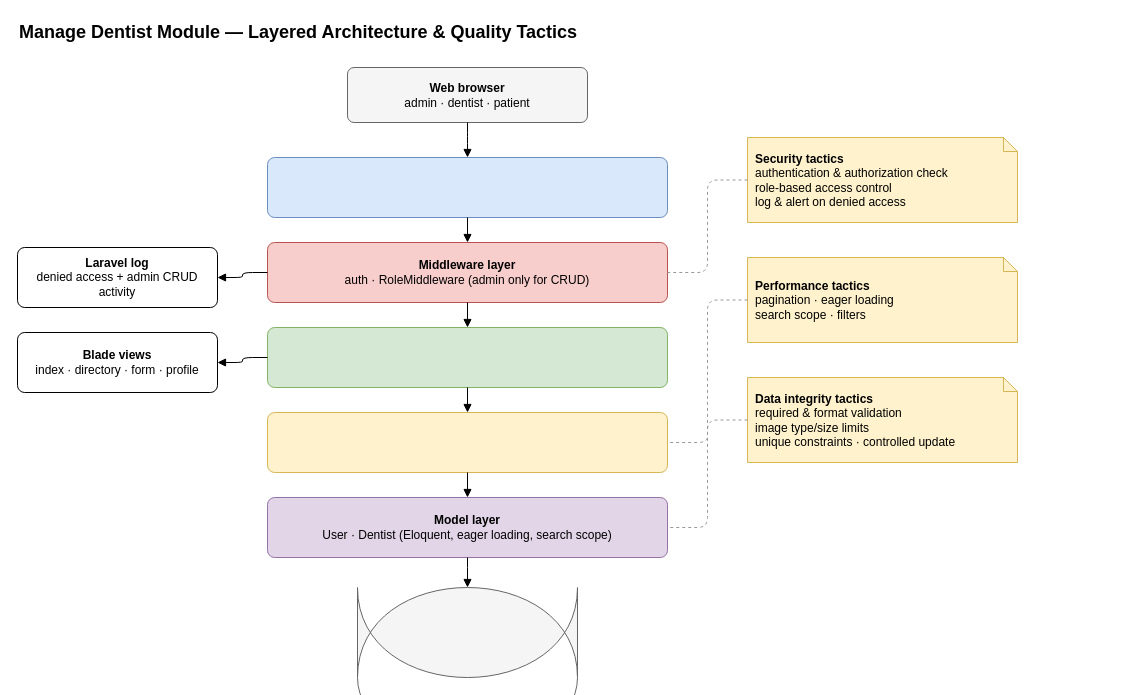
Image size: 1135x695. Some labels were removed from this diagram. Each missing label, with the centre of its shape:
"Controller layer ManageDentistController · DentistDirectoryController" goes at (x=467, y=357).
"MySQL dentists: UNIQUE(user_id), UNIQUE(dentist_id)" goes at (x=467, y=632).
"Route layer web.php → routes/modules/manage_dentist.php" goes at (x=467, y=187).
"Validation layer StoreDentistRequest · UpdateDentistRequest" goes at (x=467, y=442).
